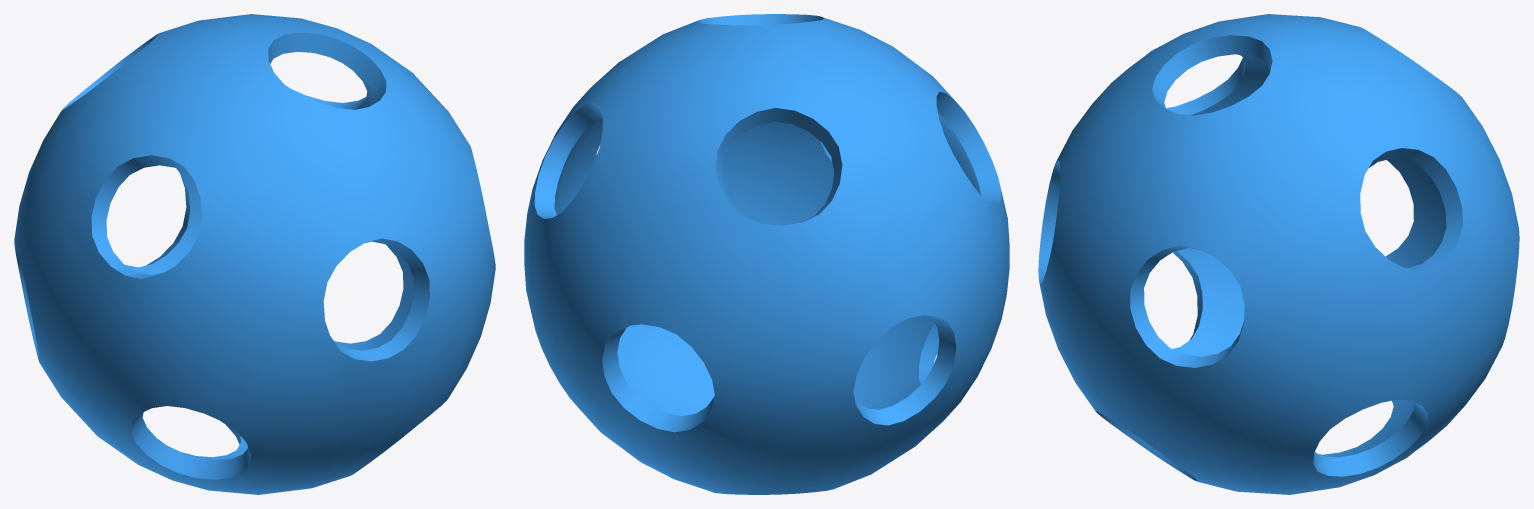
File: Pickleball_Blue.fbx
The picture shows the model from 3 angles, left to right: view 1: azimuth 30°, elevation 25°; view 2: azimuth 150°, elevation 25°; view 3: azimuth 270°, elevation 25°; orthographic projection.
Visible parts, largest first — view 1: Pickleball_Blue; view 2: Pickleball_Blue; view 3: Pickleball_Blue.
Boxes of the visible parts, box(x1,y1,x2,y2) form: Pickleball_Blue: box(14, 14, 495, 494); Pickleball_Blue: box(524, 14, 1009, 494); Pickleball_Blue: box(1038, 14, 1519, 494).
Size of the model in its own units: 92.7 by 92.6 by 92.6.
